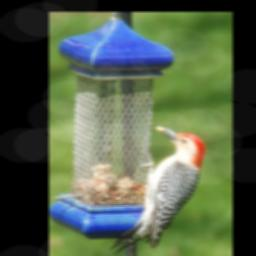Woodpecker: (104, 121, 205, 256)
